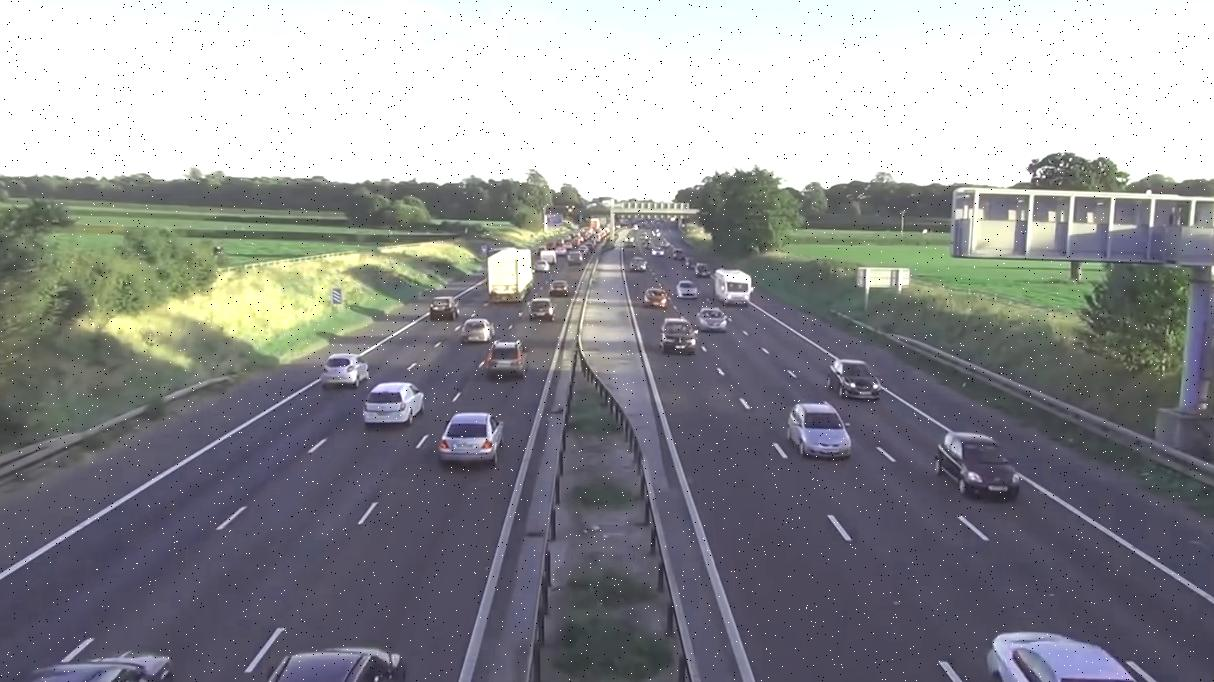car: (983, 629, 1165, 682), (931, 426, 1028, 501), (258, 645, 411, 682), (788, 401, 853, 460), (362, 382, 424, 424), (830, 358, 880, 399), (481, 340, 526, 381), (322, 355, 371, 388), (441, 412, 492, 437), (659, 318, 696, 352), (459, 317, 495, 343), (525, 297, 559, 323), (698, 310, 731, 334), (431, 295, 461, 320), (645, 287, 669, 307), (548, 279, 569, 298), (678, 282, 700, 300), (630, 256, 647, 271)
truck: (488, 250, 532, 302), (717, 269, 753, 305)
